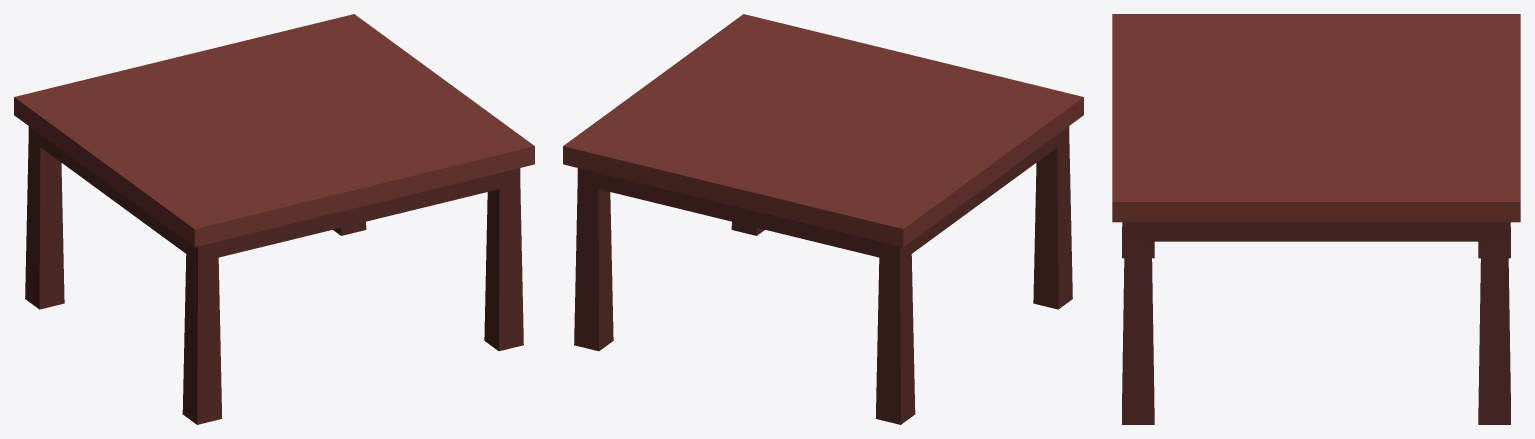
File: Table.glb
3 views of the same model, side by side, from view 1: azimuth 30°, elevation 25°; view 2: azimuth 150°, elevation 25°; view 3: azimuth 270°, elevation 25° (orthographic). The views are drawn at different scales.
Visible parts, largest first — view 1: Table; view 2: Table; view 3: Table.
Part boxes in pixels (x1,y1,x2,y2): Table: (14, 14, 534, 424); Table: (563, 14, 1083, 424); Table: (1112, 14, 1520, 424).
Bounding box in the file's own units: 1.11 × 0.6228 × 1.02.
